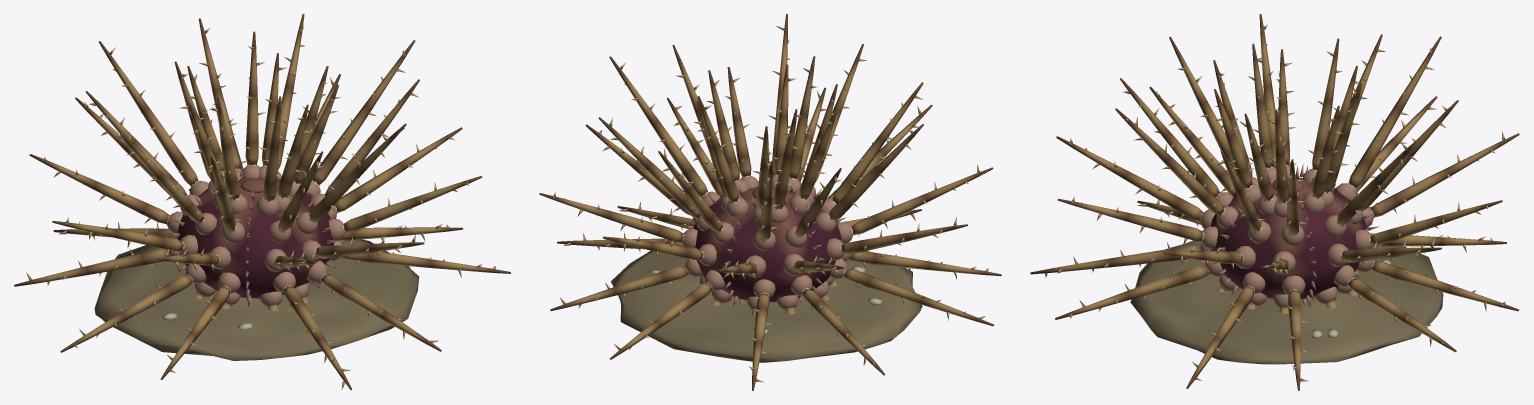
Rendered from Archaeocidaris.fbx.
The picture shows the model from 3 angles, left to right: view 1: azimuth 30°, elevation 25°; view 2: azimuth 150°, elevation 25°; view 3: azimuth 270°, elevation 25°; orthographic projection. The views are drawn at different scales.
Visible parts, largest first — view 1: Archaeocidaris; view 2: Archaeocidaris; view 3: Archaeocidaris.
Boxes of the visible parts, x1,y1,x2,y2 form: Archaeocidaris: [14, 14, 510, 389]; Archaeocidaris: [539, 14, 1001, 390]; Archaeocidaris: [1030, 14, 1519, 390].
Size of the model in its own units: 1.86 by 1.03 by 1.83.
